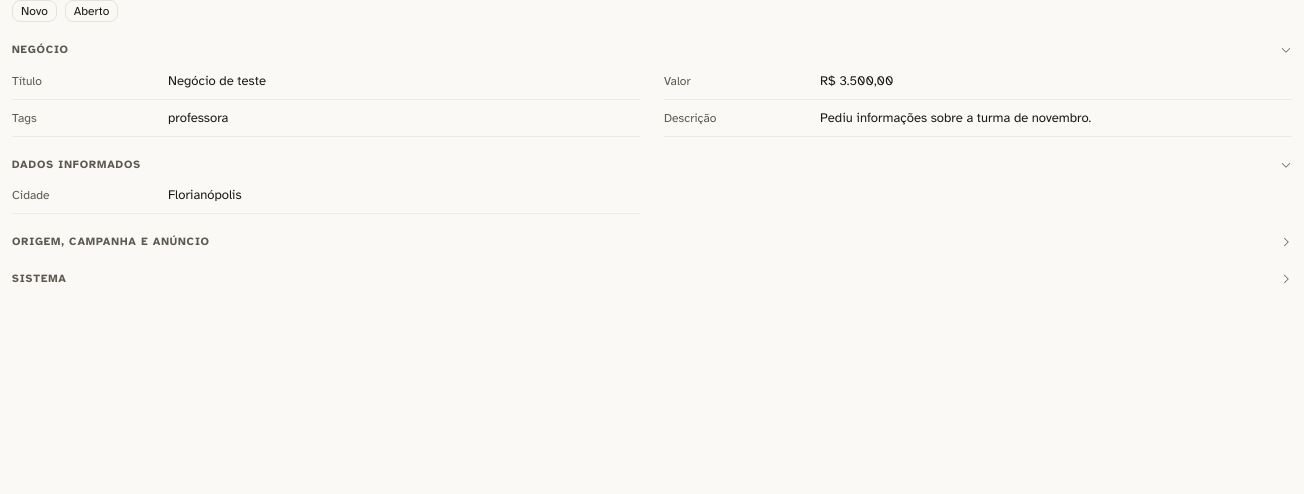
seções recolhíveis dos dados do lead › mostra cada informação uma vez e recolhe identificadores técnicos no Sistema
Expected: the text "Negócio de teste" is shown, 168,72 -> 266,88
Expected: the text "Pediu informações sobre a turma de novembro." is shown, 820,110 -> 1091,126
What coordinates should you click on to do the following:
click the button "Origem, campanha e anúncio"
I would click on:
 (111, 242)
Its box is 12,234 -> 1292,250.
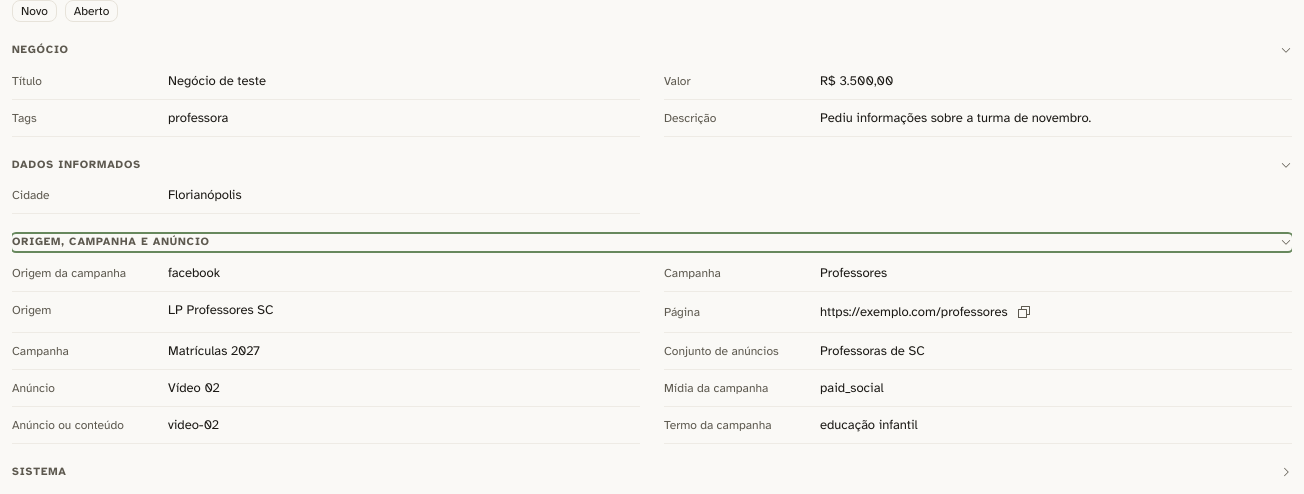
Now the text "LP Professores SC" is shown, box 168,302 -> 274,318
Now the text "Matrículas 2027" is shown, box 168,342 -> 260,358
Now the text "Professoras de SC" is shown, box 820,342 -> 925,358
